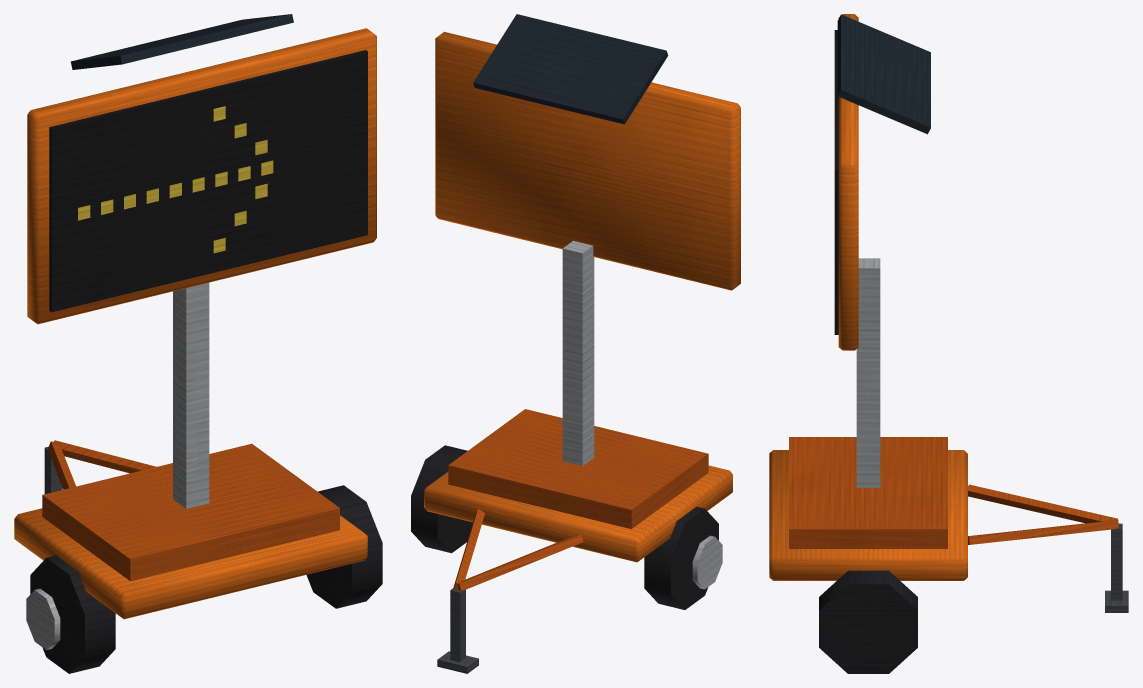
Rendered from painel_seta_luminosa.glb.
The picture shows the model from 3 angles, left to right: view 1: azimuth 30°, elevation 25°; view 2: azimuth 150°, elevation 25°; view 3: azimuth 270°, elevation 25°; orthographic projection. The views are drawn at different scales.
Parts seen in each view (by area): view 1: Inteiro, Peca_01, Peca_00; view 2: Inteiro, Peca_01, Peca_00; view 3: Inteiro, Peca_00, Peca_01.
Part boxes in pixels (left/top/right/bottom): Inteiro: left=14, top=14, right=382, bottom=673; Peca_01: left=27, top=14, right=375, bottom=505; Peca_00: left=26, top=444, right=366, bottom=673; Inteiro: left=411, top=14, right=740, bottom=673; Peca_01: left=435, top=14, right=740, bottom=463; Peca_00: left=411, top=415, right=722, bottom=660; Inteiro: left=769, top=14, right=1128, bottom=673; Peca_00: left=769, top=437, right=967, bottom=650; Peca_01: left=834, top=30, right=929, bottom=487.
Bounding box in the file's own units: 1.8 × 3.07 × 1.81.
1 material, 1 textured.
